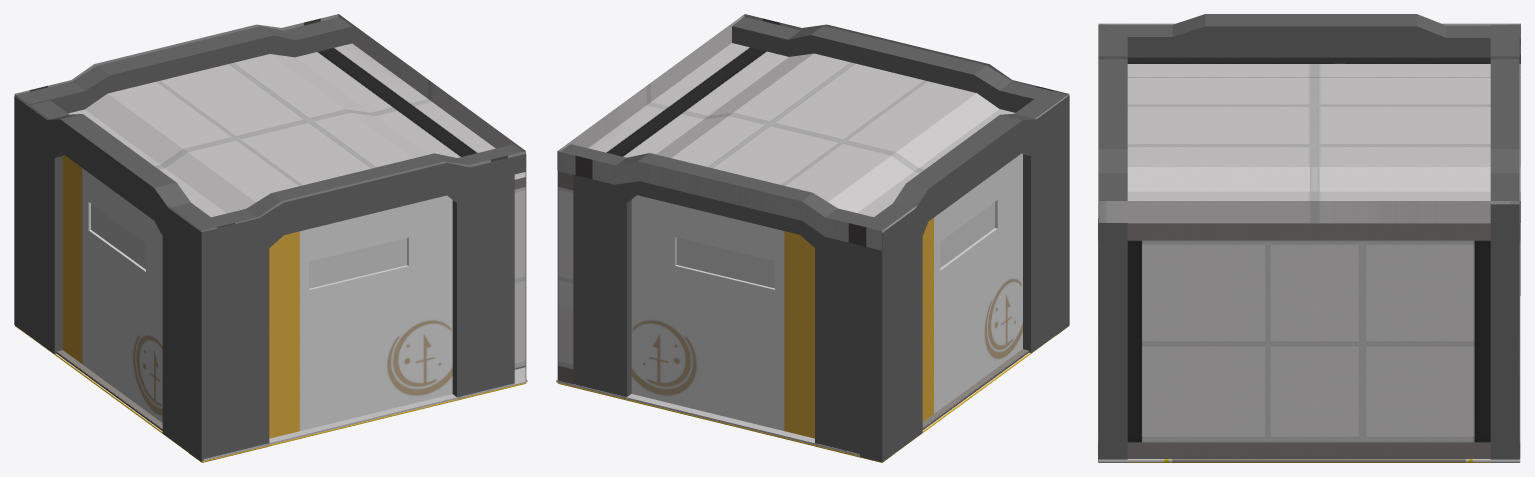
File: card_T.glb
3 renders of one model, left to right at view 1: azimuth 30°, elevation 25°; view 2: azimuth 150°, elevation 25°; view 3: azimuth 270°, elevation 25°, orthographic. The views are drawn at different scales.
Parts seen in each view (by area): view 1: ceiling.005, door1, InnerDoor1, door2, InnerDoor2, door0, Cube.010, Cube.008, Cube; view 2: ceiling.005, InnerDoor0, door2, door0, InnerDoor2, door1, Cube.008, Cube.010, Cube; view 3: Cube.008, ceiling.005, door2, door0, door1, Cube.010.
Boxes of the visible parts, x1,y1,x2,y2 form: ceiling.005: (14,14,525,231); door1: (189,144,526,462); InnerDoor1: (269,195,452,438); door2: (14,96,222,461); InnerDoor2: (62,155,162,422); door0: (15,17,352,331); Cube.010: (56,350,527,460); Cube.008: (514,172,525,384); Cube: (15,326,525,462); ceiling.005: (557,14,1069,250); InnerDoor0: (631,195,814,438); door2: (860,90,1069,462); door0: (557,144,893,462); InnerDoor2: (922,153,1022,421); door1: (732,17,1065,335); Cube.008: (558,171,573,383); Cube.010: (556,349,1029,455); Cube: (558,326,1068,462); Cube.008: (1098,218,1520,459); ceiling.005: (1098,23,1520,222); door2: (1098,14,1520,295); door0: (1490,25,1519,462); door1: (1098,25,1127,462); Cube.010: (1098,459,1520,462).
Size of the model in its own units: 4.02 by 2.86 by 4.01.
13 materials, 5 textured.
